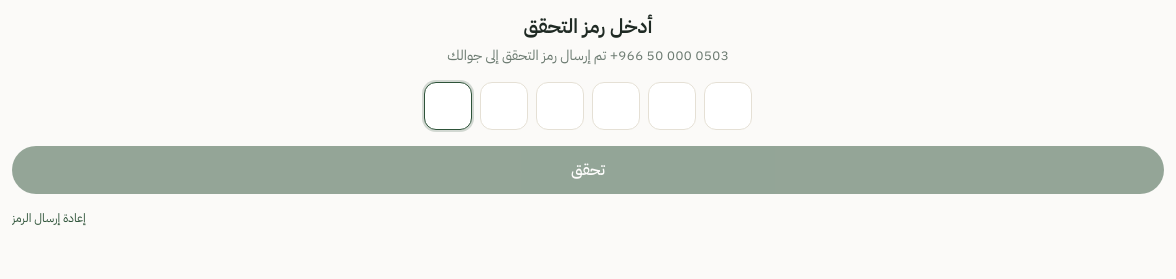
resend fails at the SMS provider (dialog) › shows the server’s words and an immediate retry, with no countdown
The width and height of the screenshot is (1176, 279).
Click the button "إعادة إرسال الرمز".
click(49, 218)  # box [12,210,86,226]
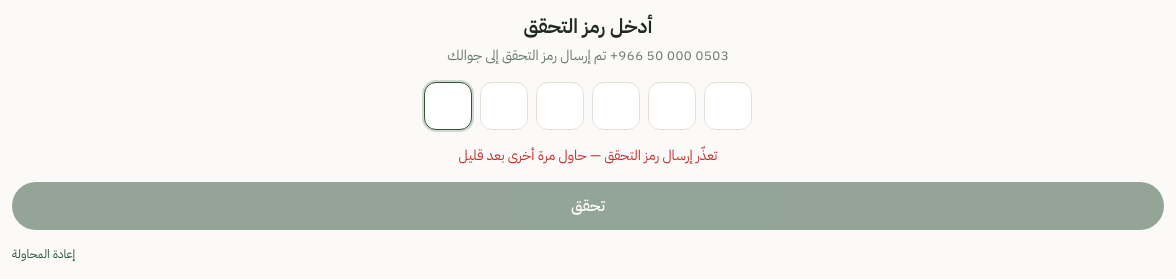
Expected: the button "إعادة المحاولة" is enabled, [12,246,75,262]
Expected: the text "تعذّر إرسال رمز التحقق — حاول مرة أخرى بعد قليل" is shown, [459,145,717,166]
